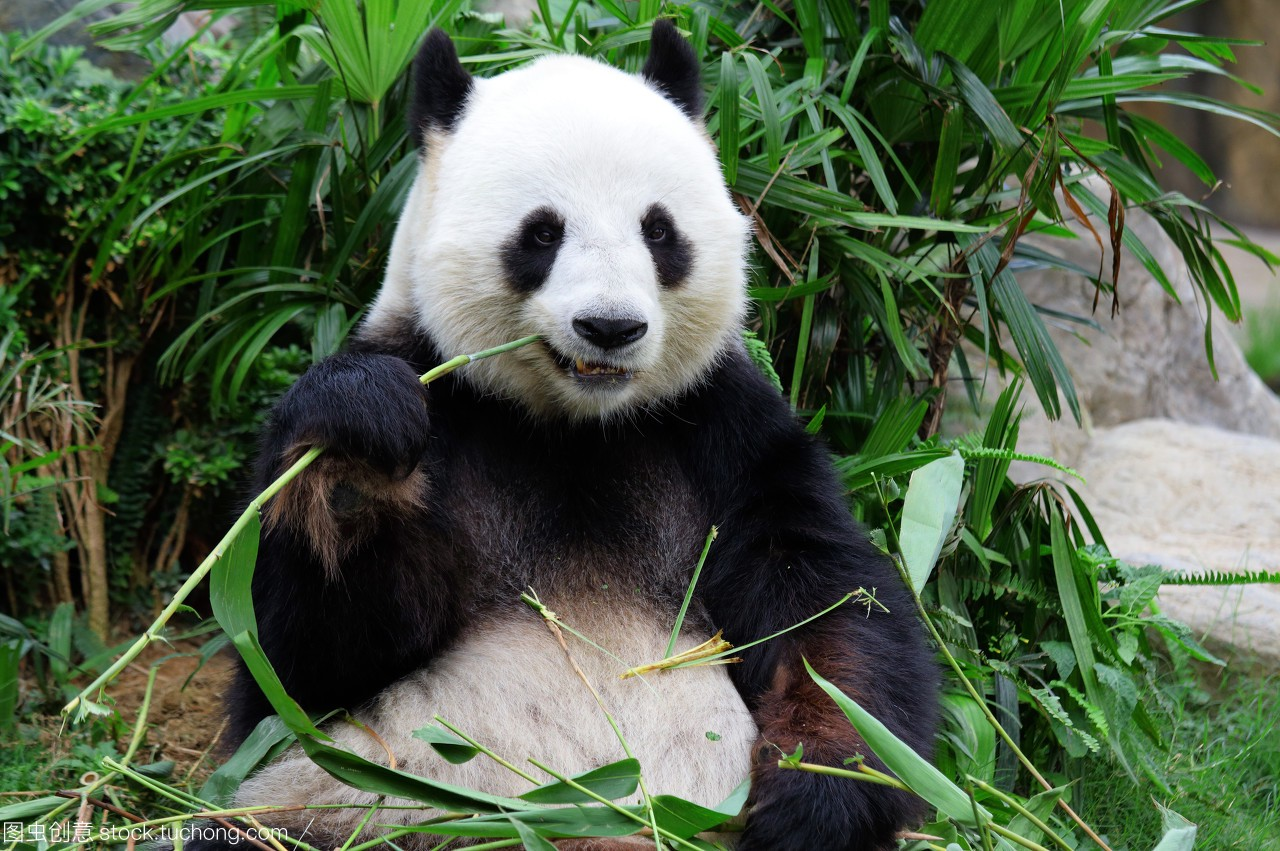panda: (245, 24, 940, 850)
